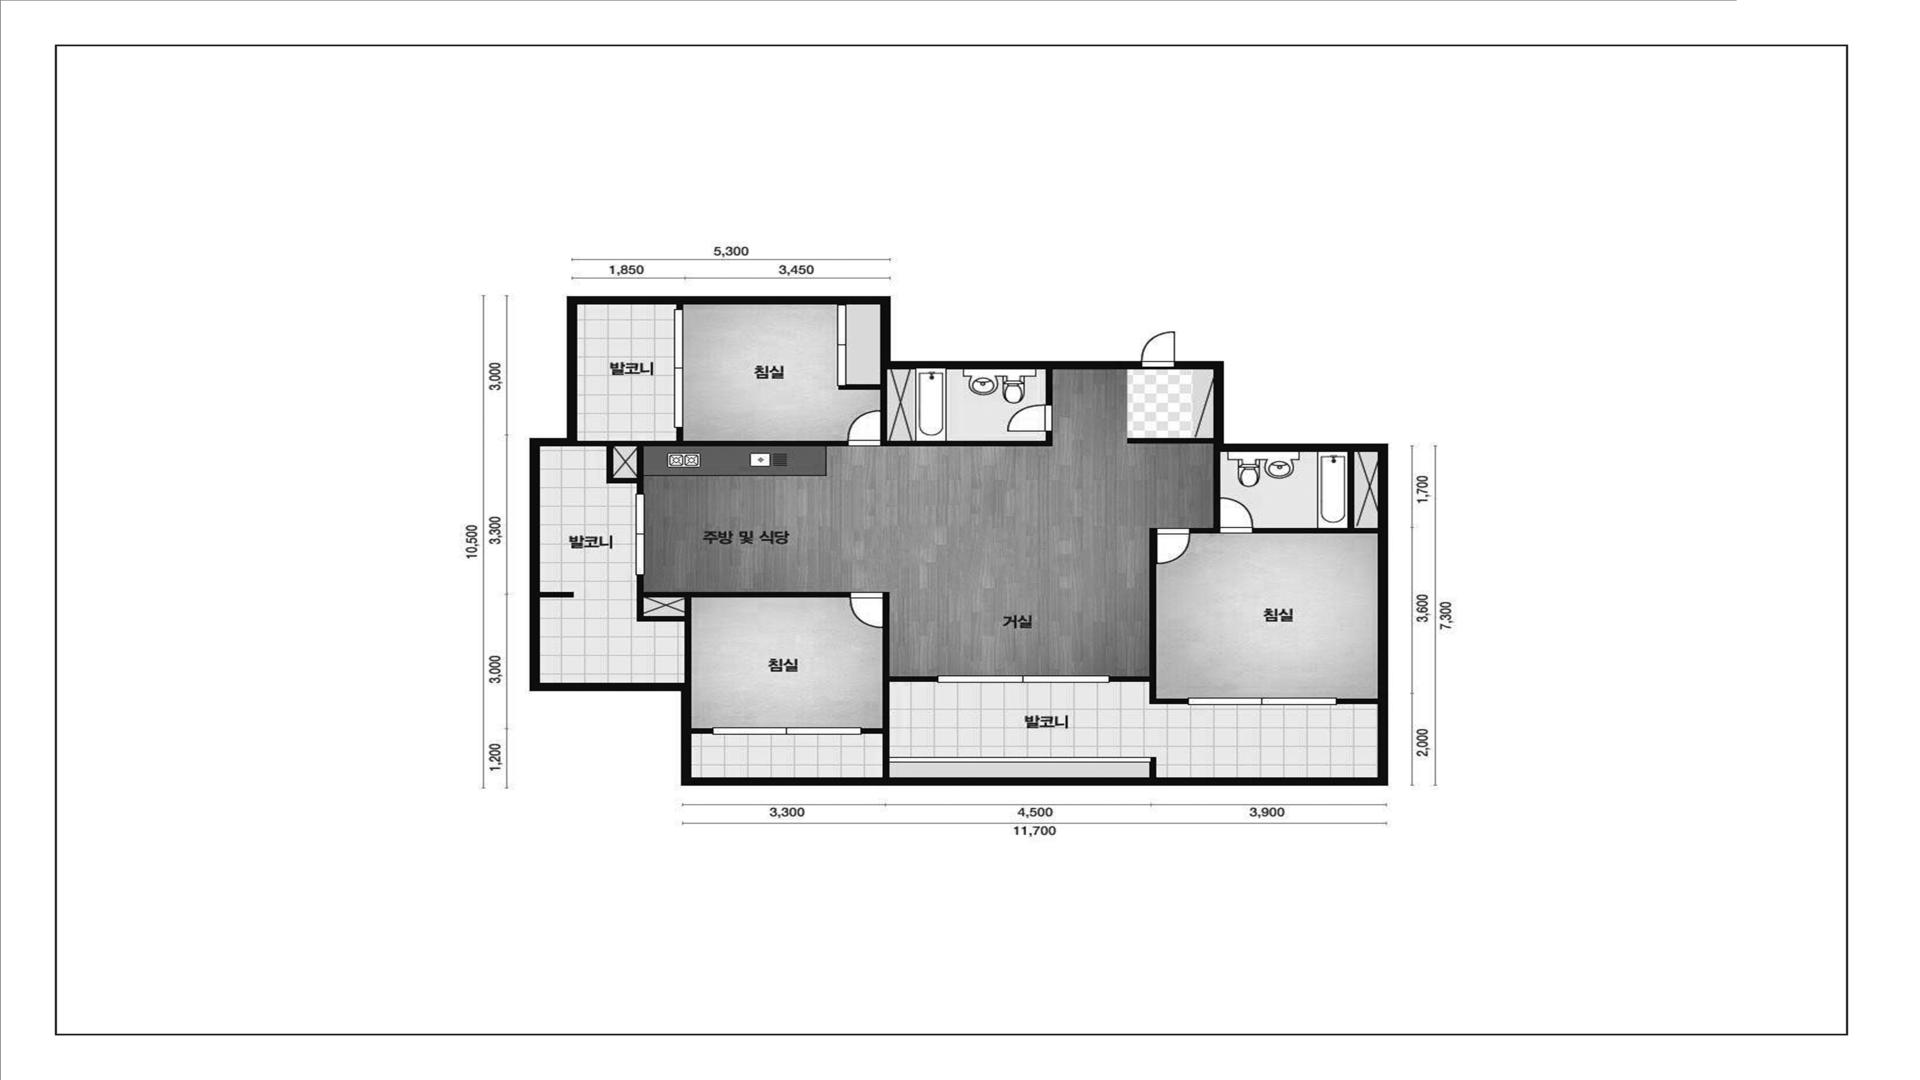door: (1141, 331, 1176, 369), (1007, 404, 1054, 433), (847, 410, 881, 447), (849, 592, 884, 628), (1156, 527, 1189, 564), (1220, 497, 1253, 534)
wall: (529, 295, 1389, 786), (637, 576, 849, 682), (578, 429, 847, 493), (839, 369, 1052, 447), (862, 592, 936, 777), (1110, 527, 1187, 704), (1253, 452, 1378, 534), (1191, 452, 1220, 533), (607, 446, 637, 484), (637, 597, 684, 621), (1127, 438, 1213, 443), (1046, 369, 1052, 404), (1337, 699, 1378, 704), (541, 592, 574, 597), (1150, 757, 1156, 777), (692, 728, 712, 733), (676, 305, 683, 309)
window: (936, 675, 1110, 683), (890, 757, 1150, 762), (1187, 698, 1337, 705), (712, 727, 862, 735), (674, 309, 683, 429), (636, 493, 645, 576)
